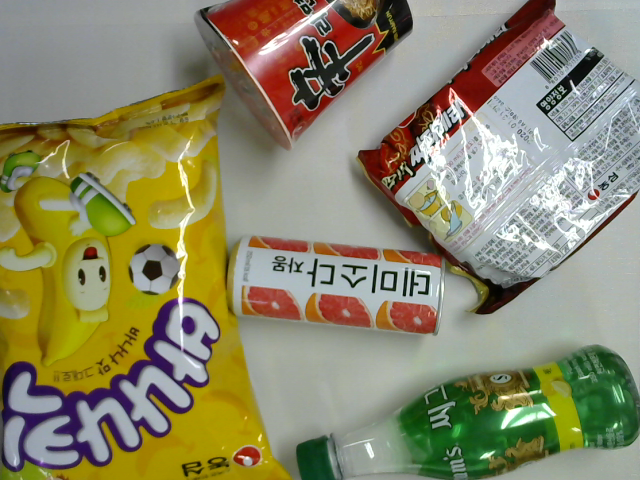Banana_Kick: (1, 73, 297, 480)
Demisoda_Grapefruit_Can_250ml: (223, 232, 448, 339)
Seagram_Lemon_Carbonated_Water: (290, 339, 640, 479)
Sichuan_Chapaghetti: (352, 1, 639, 320)
Sinramen_small: (191, 1, 419, 156)
